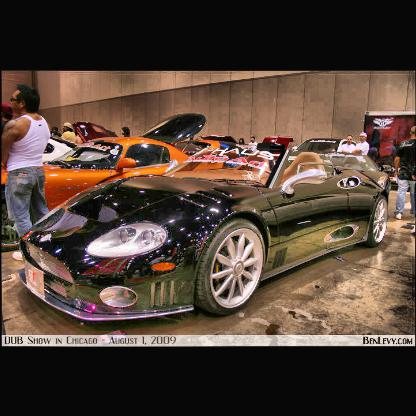Spyker C8 Convertible 2009: (16, 145, 394, 324)
